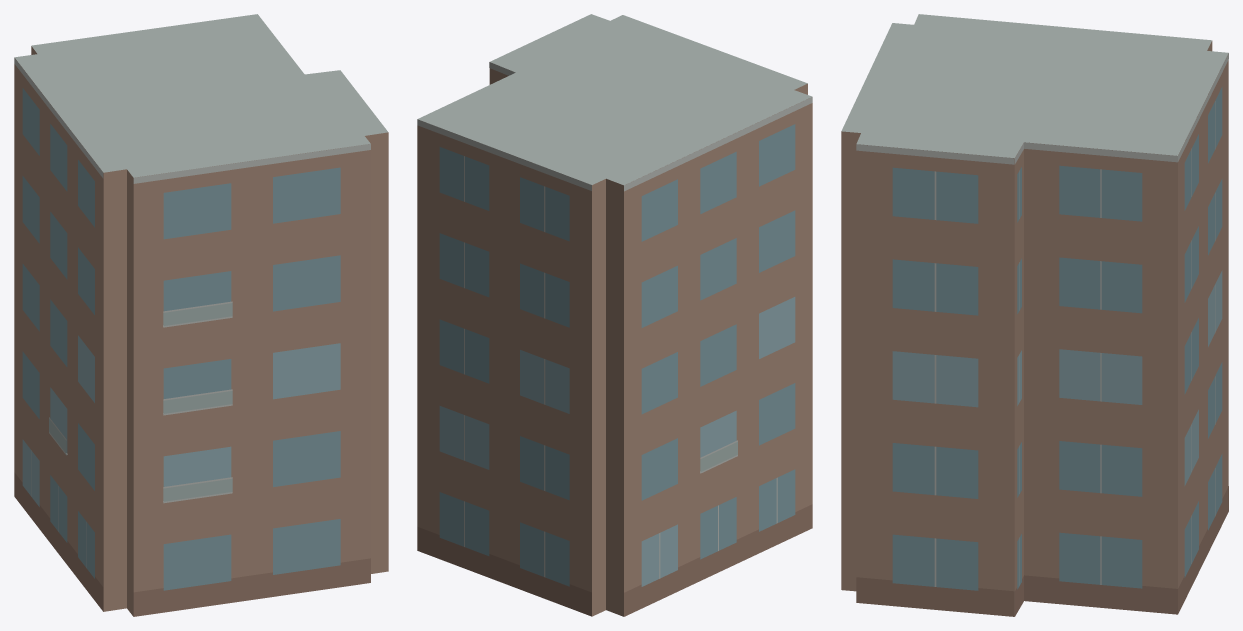
Rendered from survey-upis-32938792.glb.
3 views of the same model, side by side, from view 1: azimuth 30°, elevation 25°; view 2: azimuth 150°, elevation 25°; view 3: azimuth 270°, elevation 25° (orthographic). The views are drawn at different scales.
Parts seen in each view (by area): view 1: survey-upis-32938792.tmp; view 2: survey-upis-32938792.tmp; view 3: survey-upis-32938792.tmp.
Boxes of the visible parts, x1,y1,x2,y2 form: survey-upis-32938792.tmp: (14,14,388,616); survey-upis-32938792.tmp: (417,14,812,616); survey-upis-32938792.tmp: (841,14,1228,616).
Bounding box in the file's own units: 11.6 × 17.2 × 13.18.
